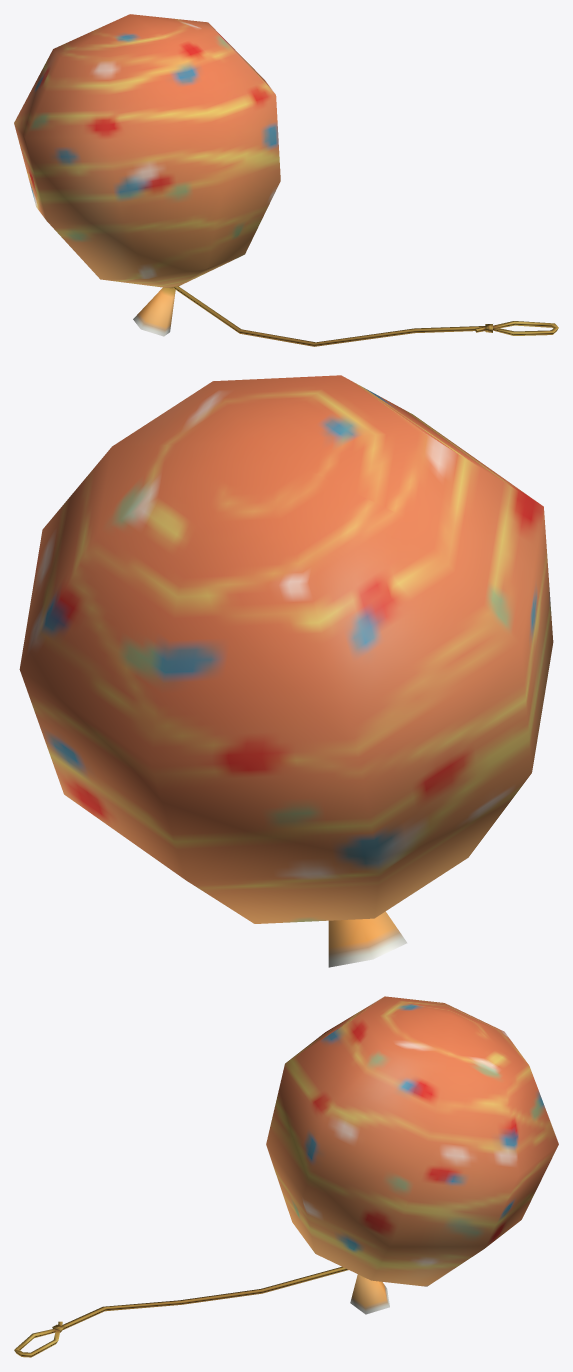
Rendered from jsf_WaterBalloon_01_d.fbx.
The picture shows the model from 3 angles, top to bottom: view 1: azimuth 30°, elevation 25°; view 2: azimuth 150°, elevation 25°; view 3: azimuth 270°, elevation 25°; orthographic projection. The views are drawn at different scales.
Parts seen in each view (by area): view 1: jsf_WaterBalloon_01_d; view 2: jsf_WaterBalloon_01_d; view 3: jsf_WaterBalloon_01_d.
Part boxes in pixels (x1=…): jsf_WaterBalloon_01_d: x1=14, y1=14, x2=558, y2=346; jsf_WaterBalloon_01_d: x1=19, y1=375, x2=553, y2=967; jsf_WaterBalloon_01_d: x1=14, y1=996, x2=558, y2=1357.
Bounding box in the file's own units: 15.63 × 12.55 × 20.67.
